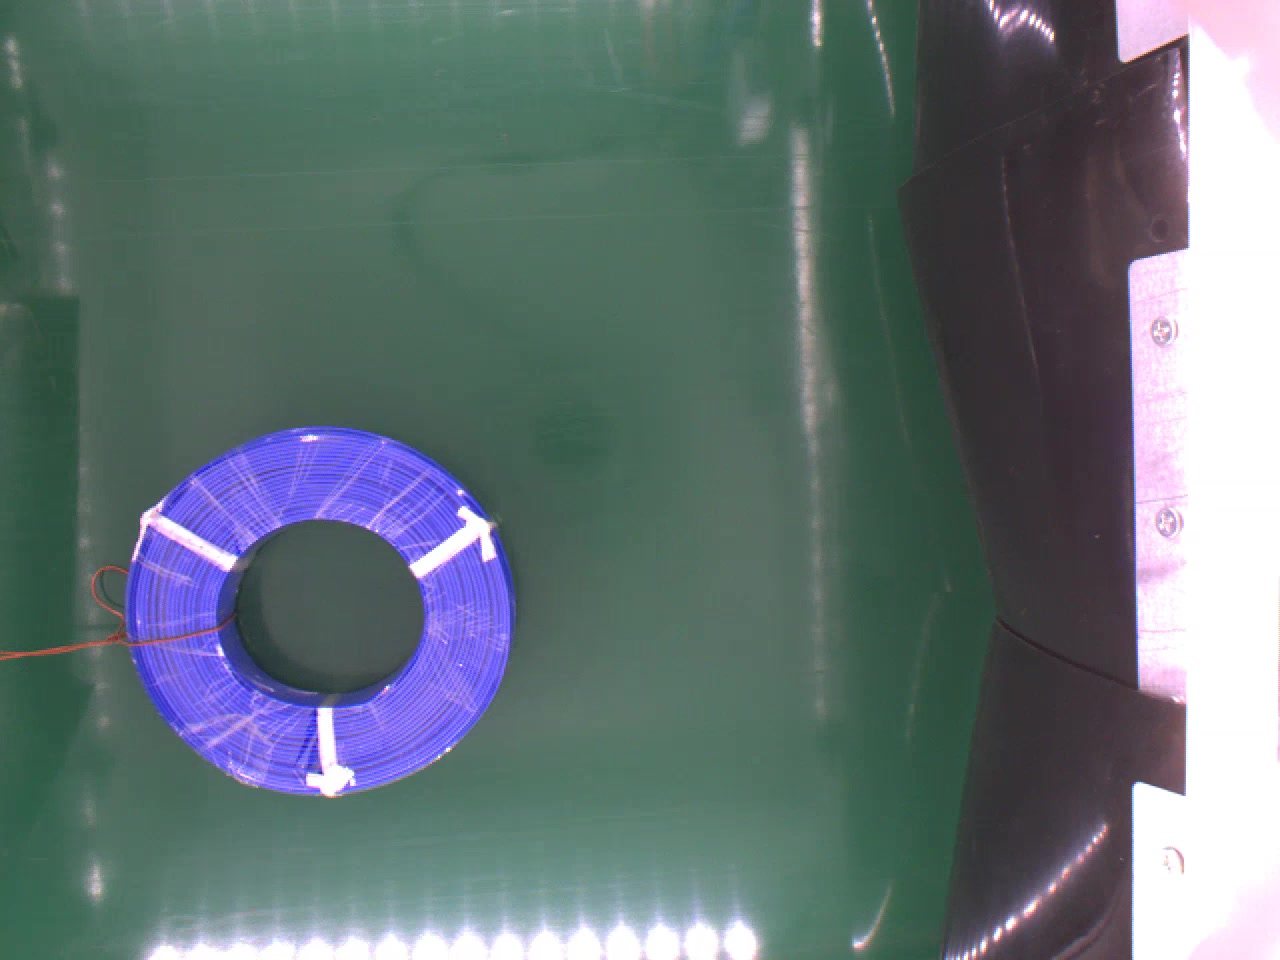blue: (118, 422, 514, 798)
